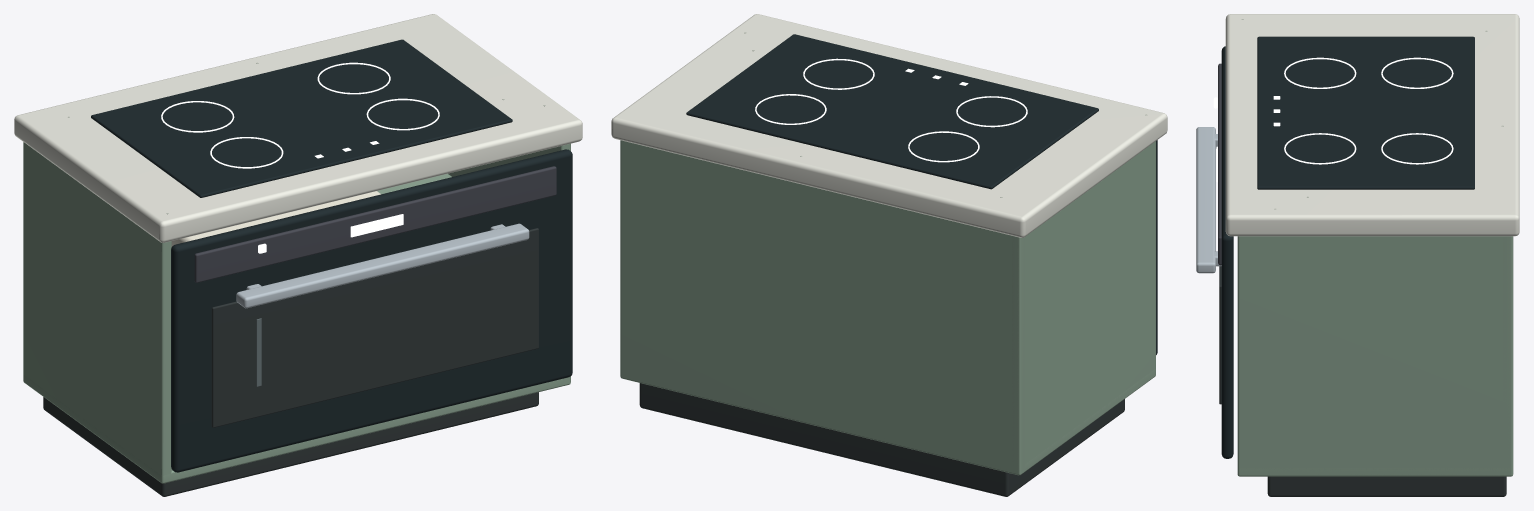
File: kitchenModernInductionSage.glb
3 renders of one model, left to right at view 1: azimuth 30°, elevation 25°; view 2: azimuth 150°, elevation 25°; view 3: azimuth 270°, elevation 25°, orthographic. The views are drawn at different scales.
Visible parts, largest first — view 1: Oven black glass face, Thick stone worktop, Oven window, Storage inner side, Induction glass plate, Oven control strip, Recessed kitchen plinth, Slim oven handle, Storage inner floor, Stored folded linen, Storage inner side.001, Oven clock display; view 2: Storage inner back, Thick stone worktop, Induction glass plate, Storage inner side, Recessed kitchen plinth, Storage inner floor; view 3: Storage inner side.001, Induction glass plate, Thick stone worktop, Recessed kitchen plinth, Oven black glass face, Slim oven handle, Storage inner back, Storage inner floor, Oven control strip, Oven window.
Boxes of the visible parts, x1,y1,x2,y2 form: Oven black glass face: (171,149,572,472); Thick stone worktop: (14,14,582,242); Oven window: (211,228,538,427); Storage inner side: (23,142,171,483); Induction glass plate: (91,39,512,197); Oven control strip: (194,166,556,282); Recessed kitchen plinth: (43,392,538,496); Slim oven handle: (236,223,529,308); Storage inner floor: (23,375,570,483); Stored folded linen: (171,191,380,246); Storage inner side.001: (448,143,570,385); Oven clock display: (350,214,403,237); Storage inner back: (620,140,1024,475); Thick stone worktop: (611,14,1167,237); Induction glass plate: (686,34,1098,189); Storage inner side: (1012,141,1155,475); Recessed kitchen plinth: (639,383,1124,496); Storage inner floor: (883,369,1155,471); Storage inner side.001: (1237,236,1513,476); Induction glass plate: (1257,36,1474,189); Thick stone worktop: (1225,14,1519,236); Recessed kitchen plinth: (1267,476,1506,496); Oven black glass face: (1221,46,1233,458); Slim oven handle: (1196,127,1215,273); Storage inner back: (1503,236,1513,475); Storage inner floor: (1238,468,1511,475); Oven control strip: (1218,63,1221,265); Oven window: (1219,266,1221,404).
Size of the model in its own units: 1.84 by 1.25 by 1.23.
